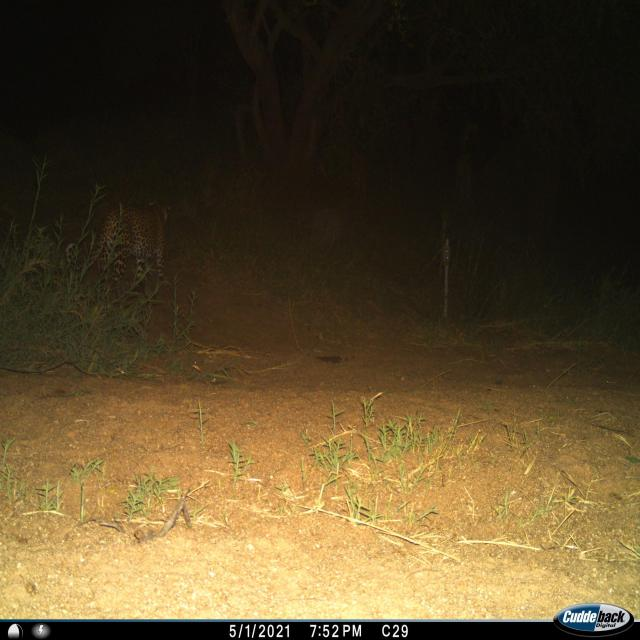Leopard: (82, 196, 170, 313)
